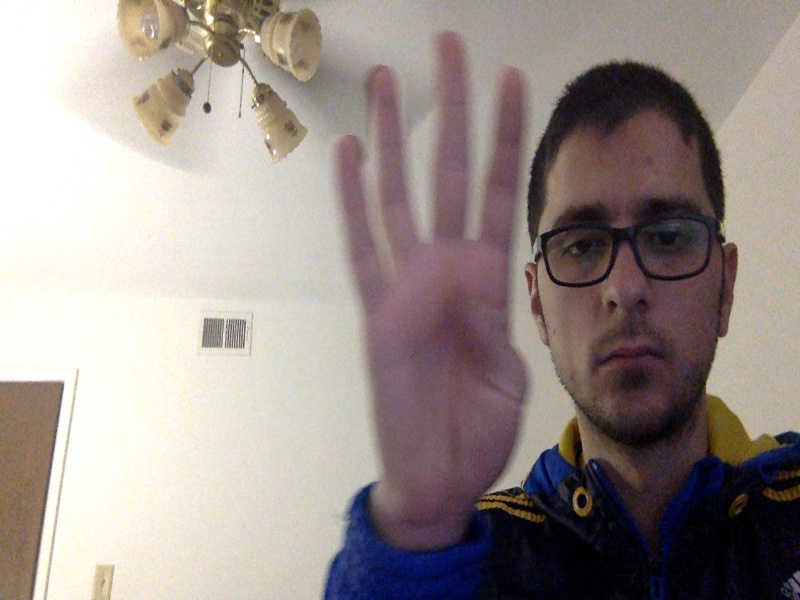4-hand: (330, 33, 530, 505)
